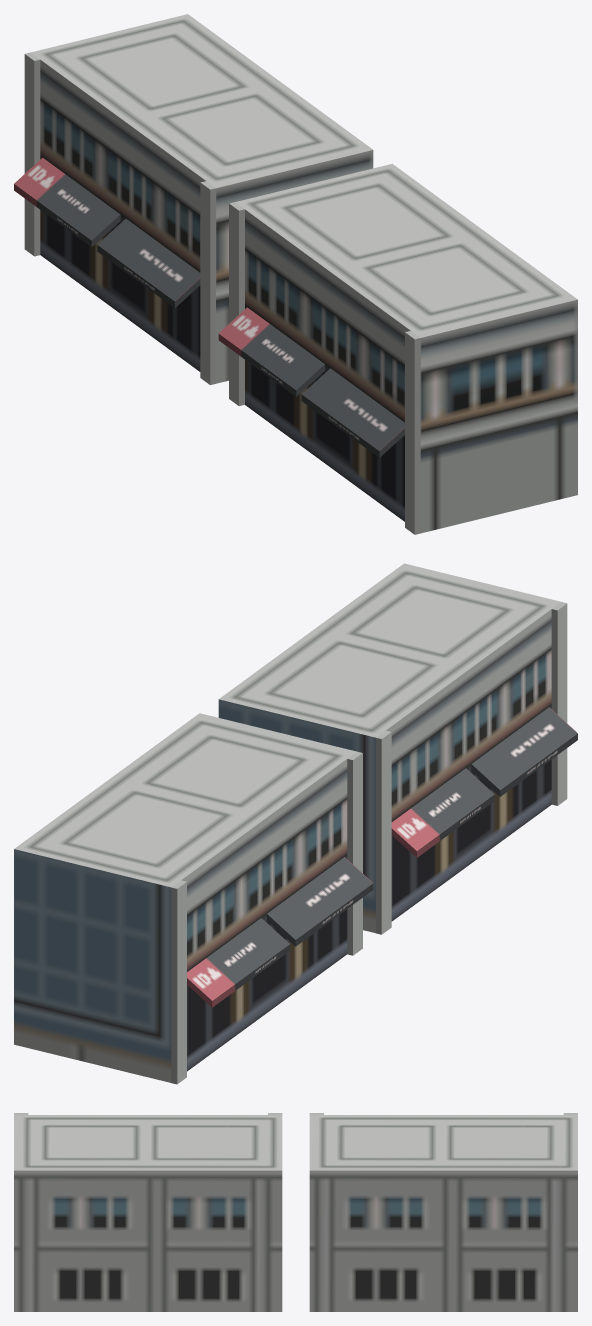
The model's file is HollywoodBoulevard.fbx.
The picture shows the model from 3 angles, top to bottom: view 1: azimuth 30°, elevation 25°; view 2: azimuth 150°, elevation 25°; view 3: azimuth 270°, elevation 25°; orthographic projection. The views are drawn at different scales.
Parts seen in each view (by area): view 1: HollywoodBoulevard11, HollywoodBoulevard10; view 2: HollywoodBoulevard10, HollywoodBoulevard11; view 3: HollywoodBoulevard10, HollywoodBoulevard11.
Boxes of the visible parts, x1,y1,x2,y2 form: HollywoodBoulevard11: (218, 163, 577, 534); HollywoodBoulevard10: (14, 14, 373, 384); HollywoodBoulevard10: (14, 713, 373, 1084); HollywoodBoulevard11: (218, 563, 577, 934); HollywoodBoulevard10: (309, 1113, 577, 1311); HollywoodBoulevard11: (14, 1113, 282, 1311).
Size of the model in its own units: 2.26 by 2.27 by 8.2.
